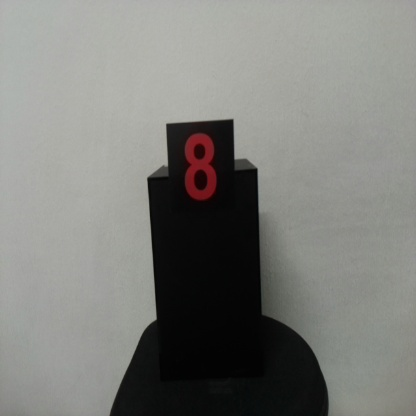id_8: (166, 124, 236, 223)
